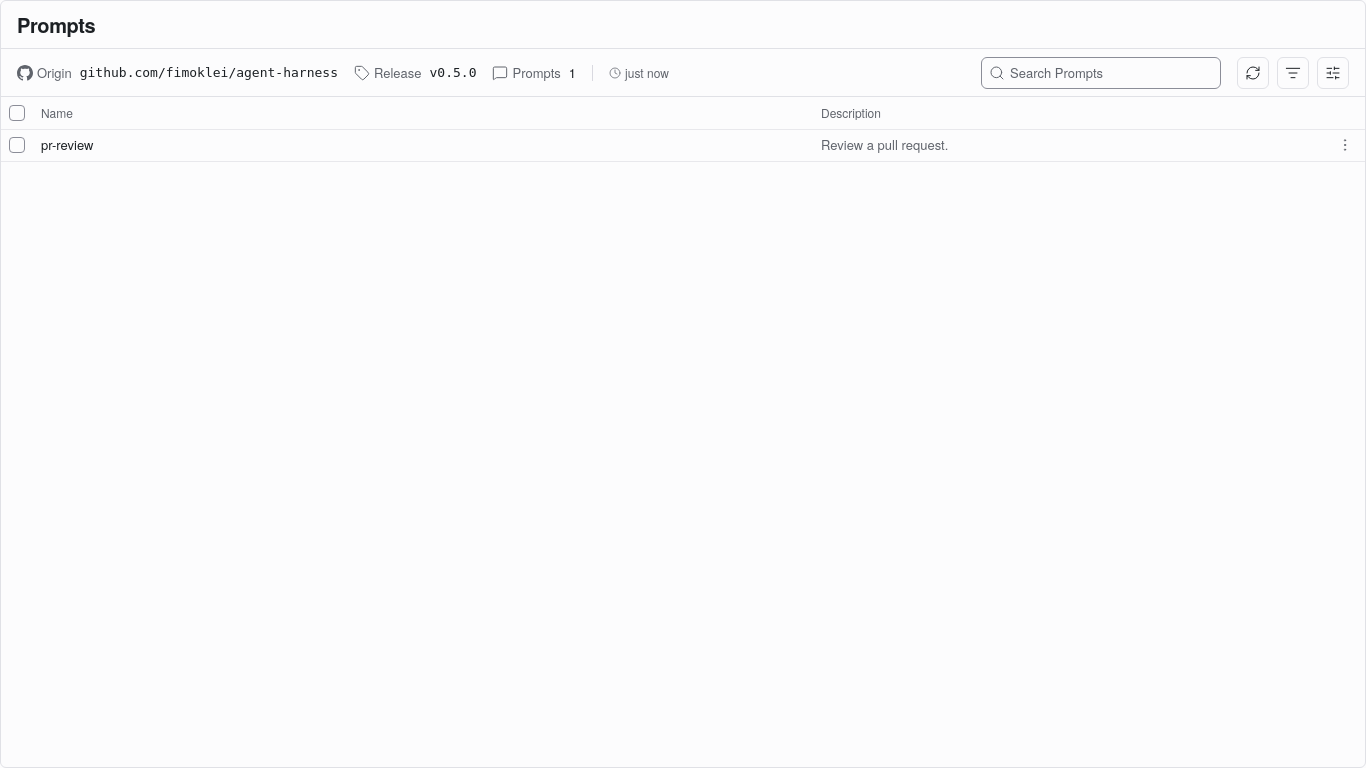
Test: Prompts — Edit prompt › shows a field error only on submit, and sends nothing
Click the button named "Actions for pr-review" at (1345, 144), box x1=1333 y1=132 x2=1357 y2=156
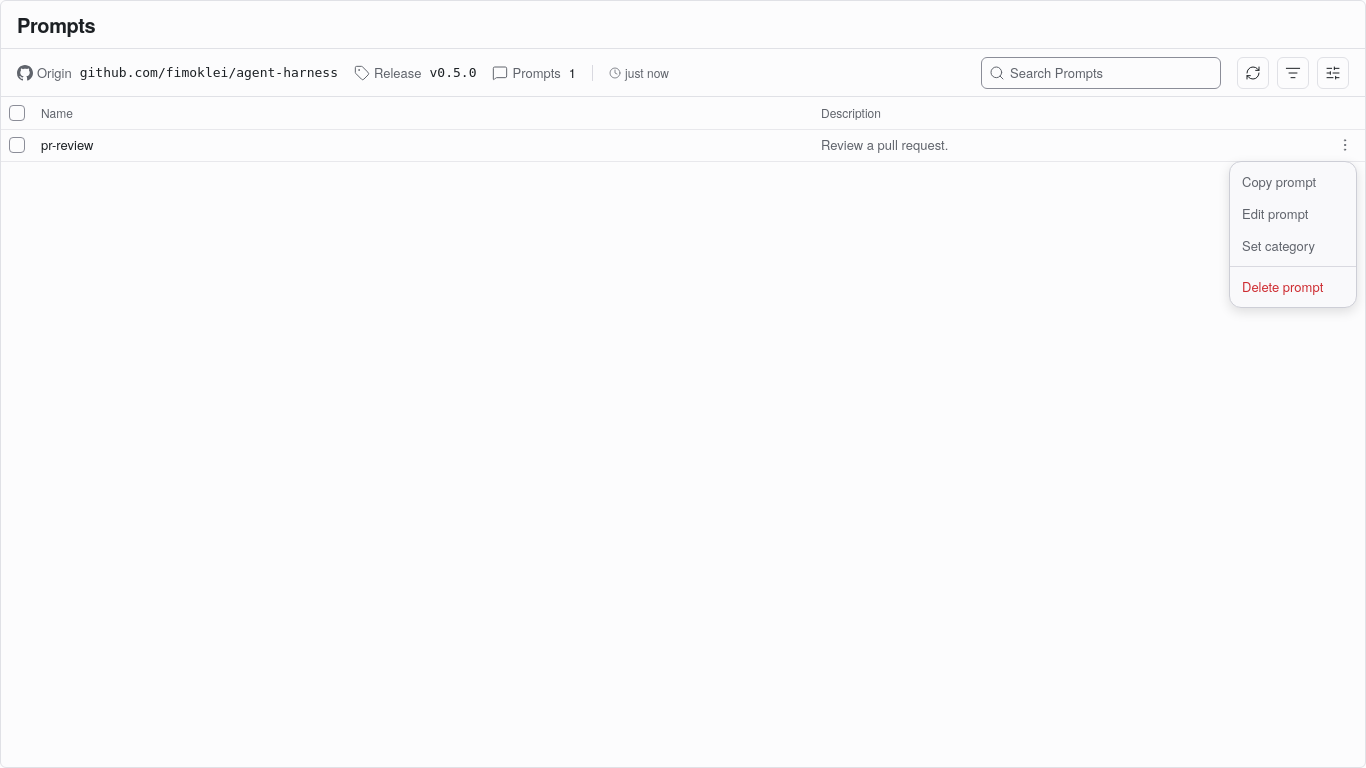
Click the menu item "Edit prompt" at (1275, 214), box x1=1242 y1=204 x2=1308 y2=223
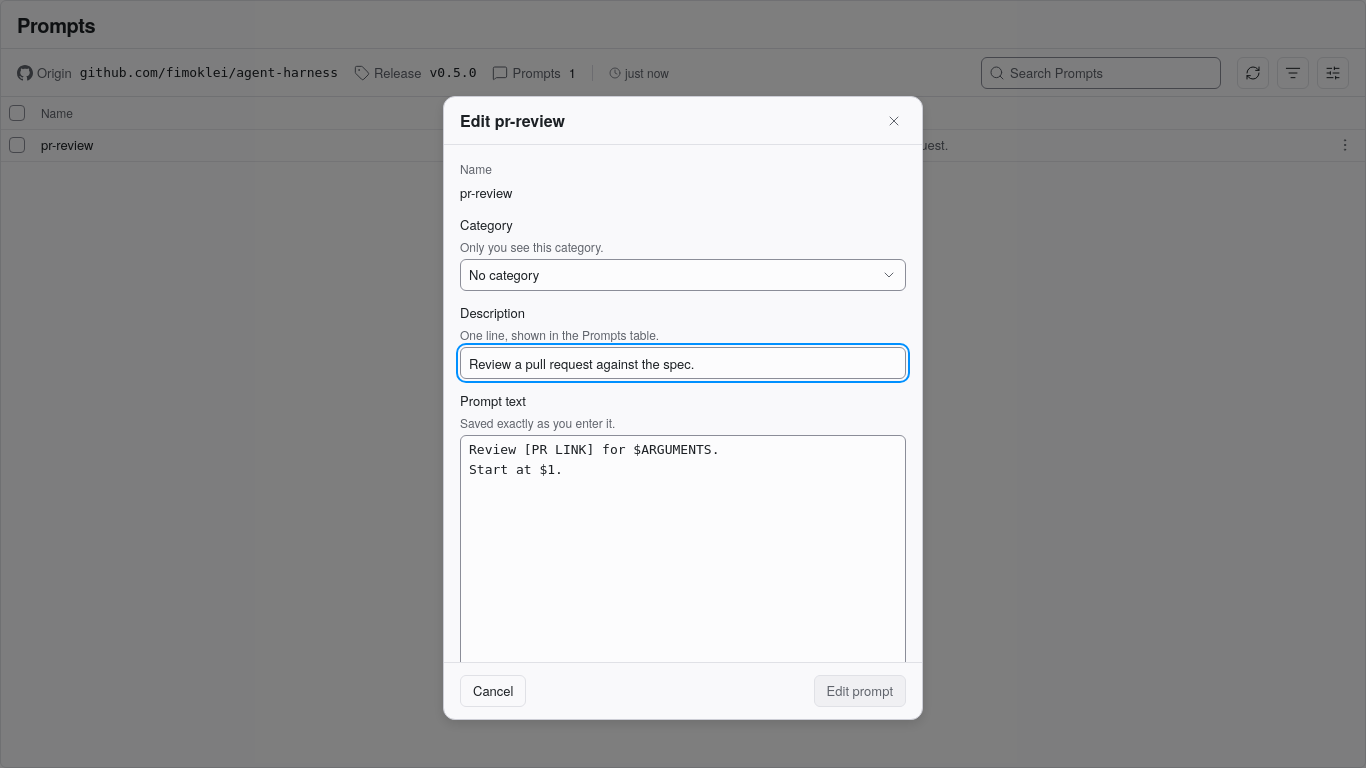
Clear the field labelled "Description" at (683, 363), box x1=460 y1=347 x2=906 y2=379
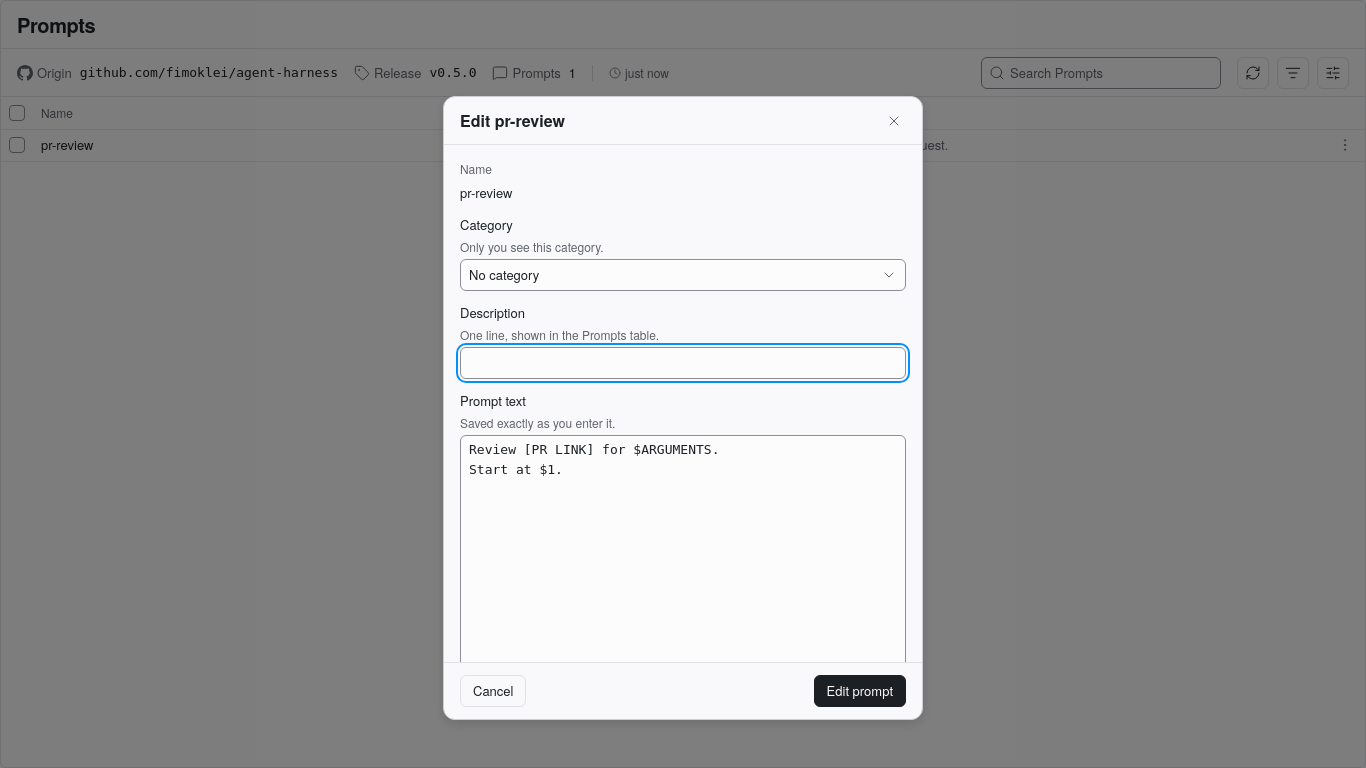
Expected: the text "Enter a description." is not shown
Click the button "Edit prompt" at (860, 691), box x1=814 y1=675 x2=906 y2=707
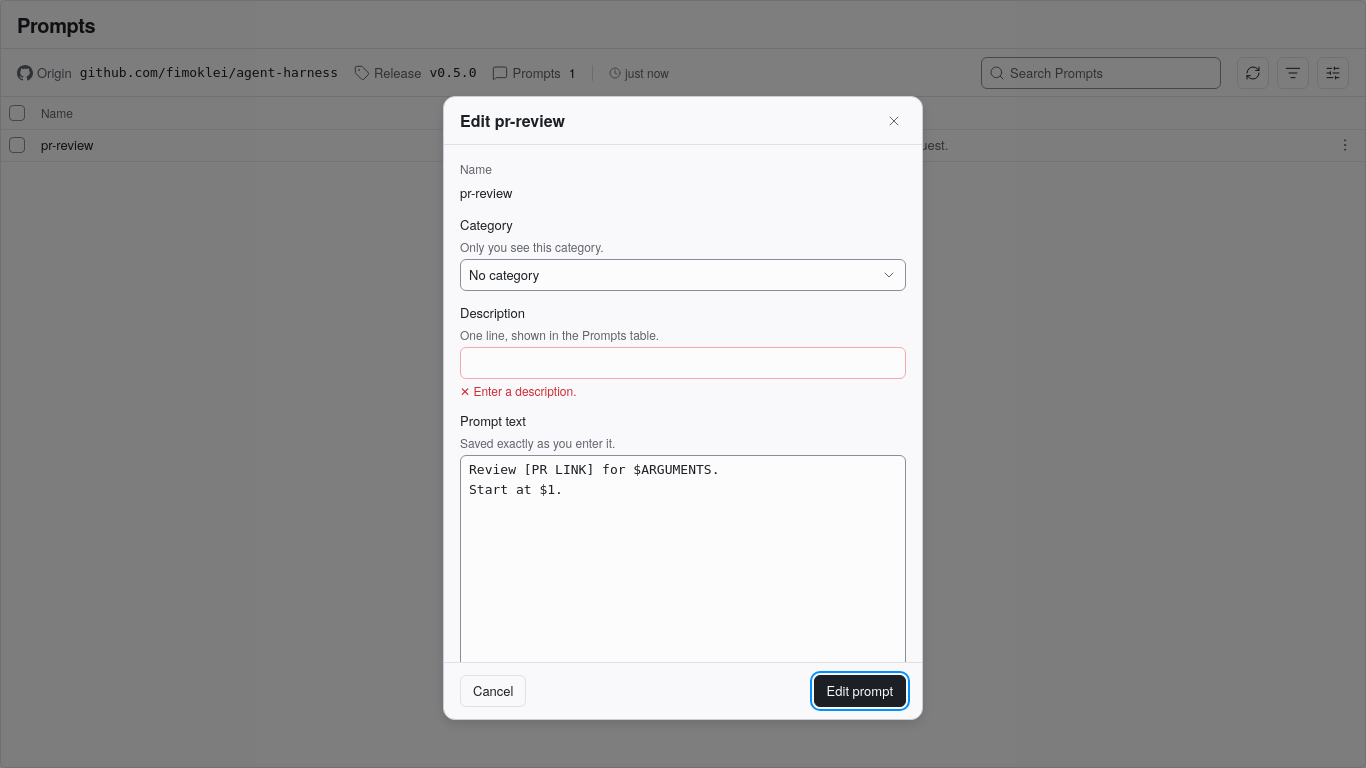
Result: the text "Enter a description." is shown at x1=473 y1=382 x2=577 y2=399
